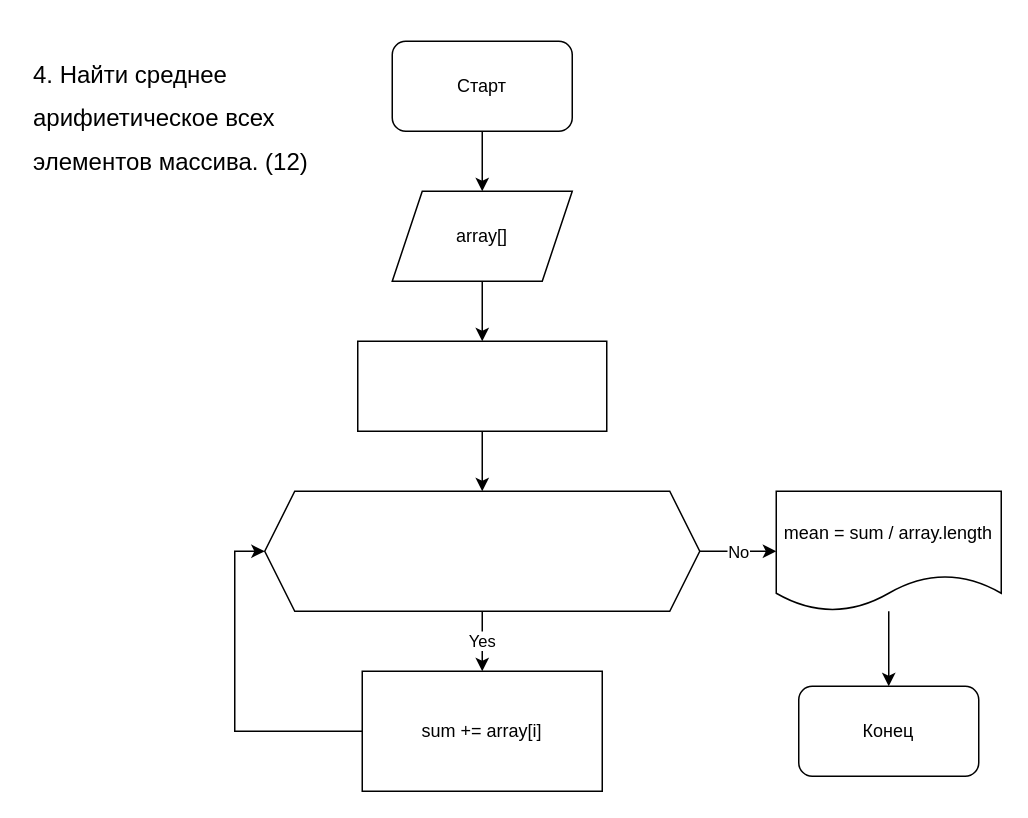
This 1028x818 diagram has some shape labels left out. The centre of each missing label's shape, as x and y in pixels:
i = 0; i < array.length; i++: point 481,550
sum = 0; mean = 0;: point 481,385
